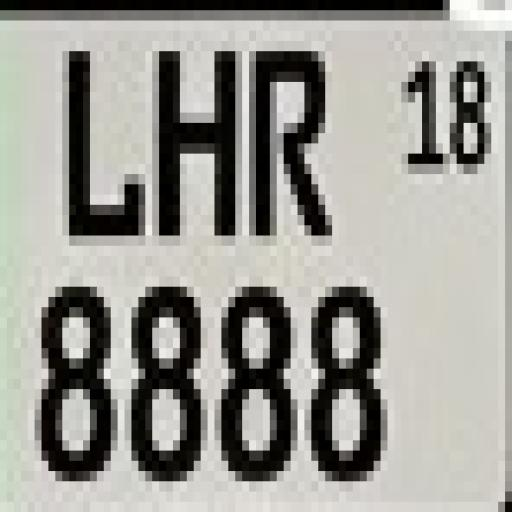8: (307, 284, 399, 474), (41, 278, 119, 486), (220, 288, 296, 480), (130, 289, 201, 485)
H: (154, 46, 234, 251)
L: (61, 35, 153, 263)
R: (243, 42, 349, 244)
